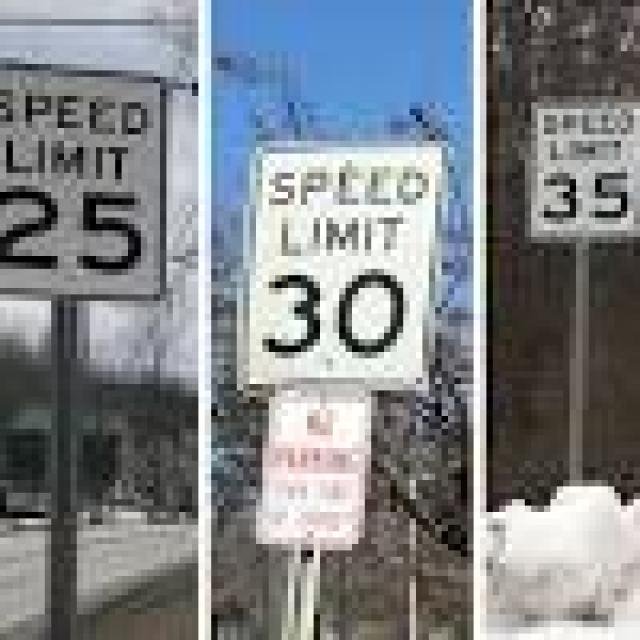speedLimit35: (250, 134, 435, 390)
